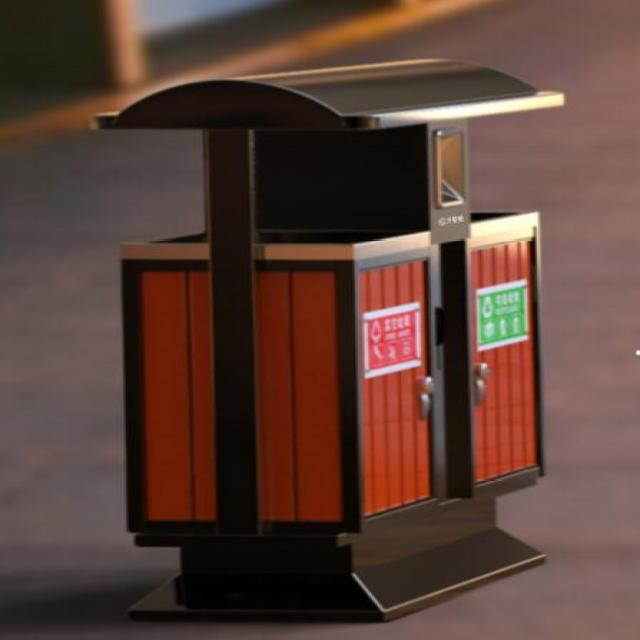ash bin: (83, 57, 574, 618)
